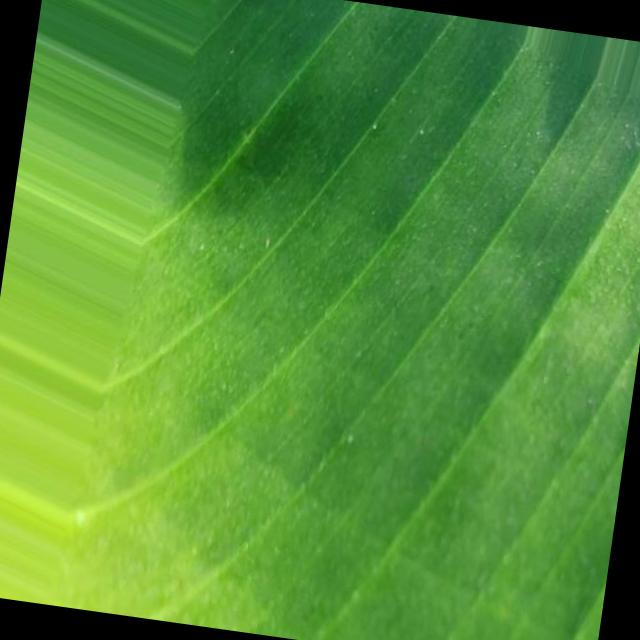Banana_Healthy: (156, 92, 634, 570)
